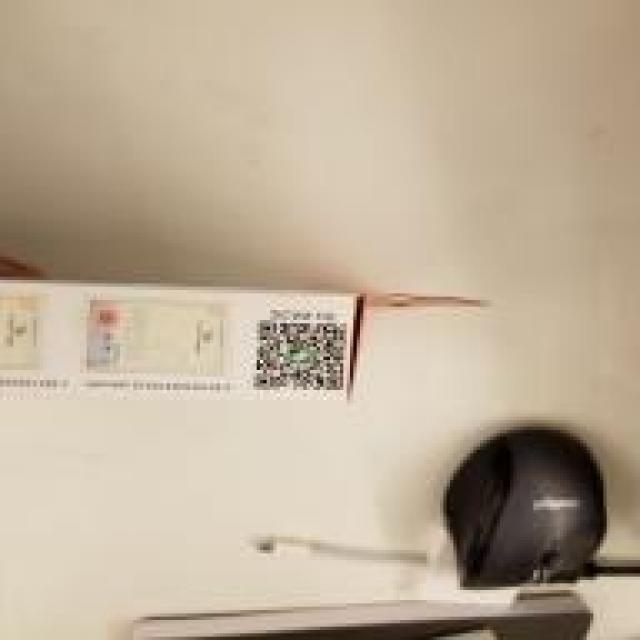QR_CODE: (247, 310, 358, 400)
